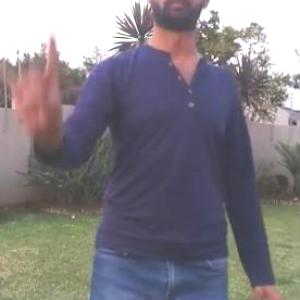takeoff-hand: (0, 28, 71, 137)
